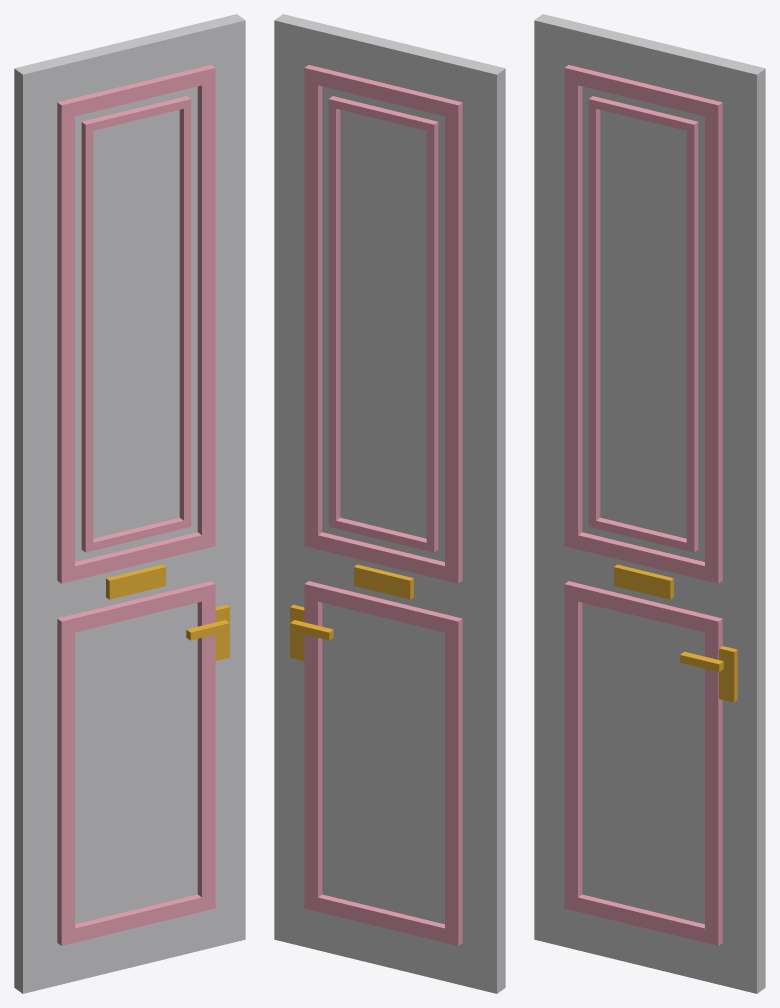
Rendered from SM_Door_girls_75x292.fbx.
3 renders of one model, left to right at view 1: azimuth 30°, elevation 25°; view 2: azimuth 150°, elevation 25°; view 3: azimuth 330°, elevation 25°, orthographic.
Parts seen in each view (by area): view 1: SM_Door_girls_75x292; view 2: SM_Door_girls_75x292; view 3: SM_Door_girls_75x292.
Part boxes in pixels (x1,y1,x2,y2): SM_Door_girls_75x292: [14, 14, 245, 993]; SM_Door_girls_75x292: [274, 14, 505, 993]; SM_Door_girls_75x292: [534, 14, 765, 993].
Size of the model in its own units: 0.738 by 2.91 by 0.175.
